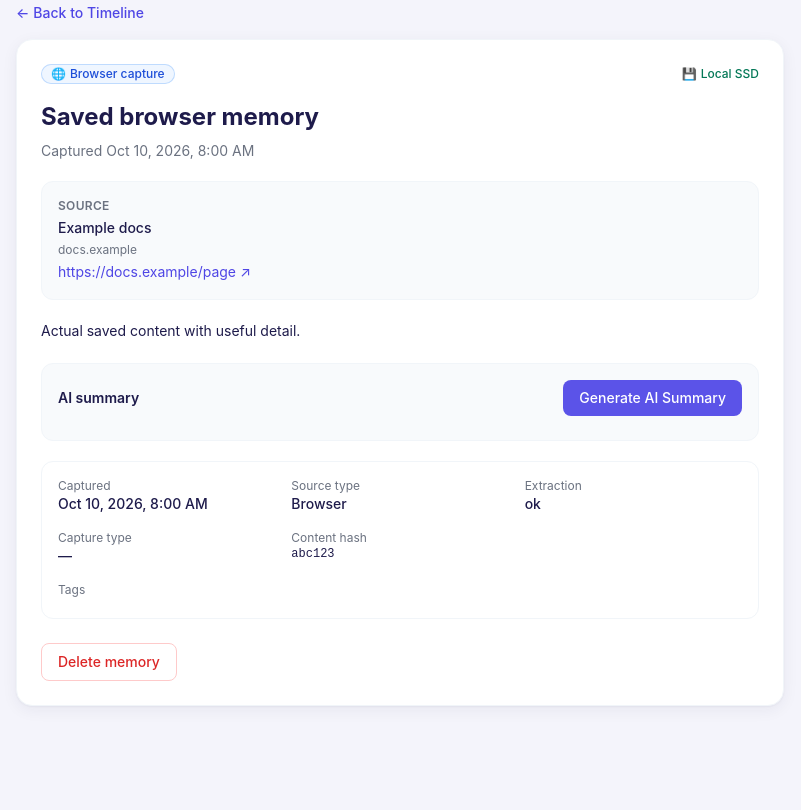
Test case: Memory Detail › generates a summary on request and shows the summary with its model
Expected: the button "Delete memory" is shown, top-left (41, 643), bottom-right (177, 681)
Click the button "Generate AI Summary".
click(653, 398)  # box top-left (563, 380), bottom-right (742, 416)
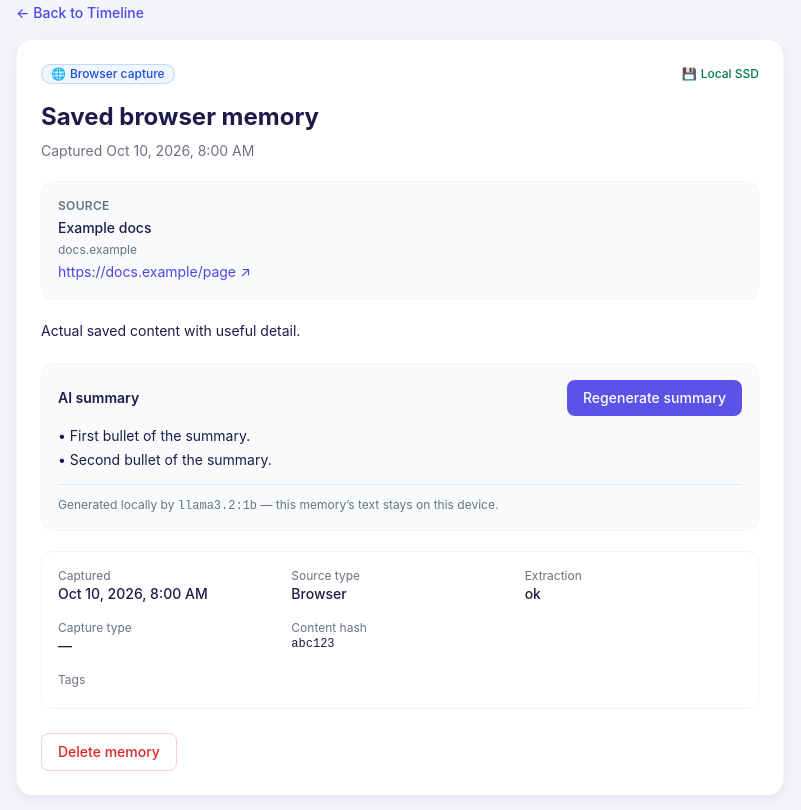
Expected: the text "First bullet of the summary" is shown, top-left (58, 427), bottom-right (272, 468)
Expected: the text "llama3.2:1b" is shown, top-left (178, 499), bottom-right (257, 513)
Expected: the button "Regenerate summary" is shown, top-left (567, 380), bottom-right (742, 416)
